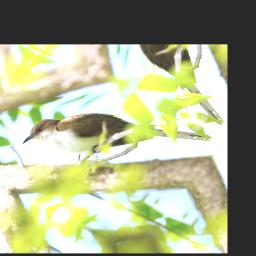Cuckoo: (19, 67, 216, 212)
